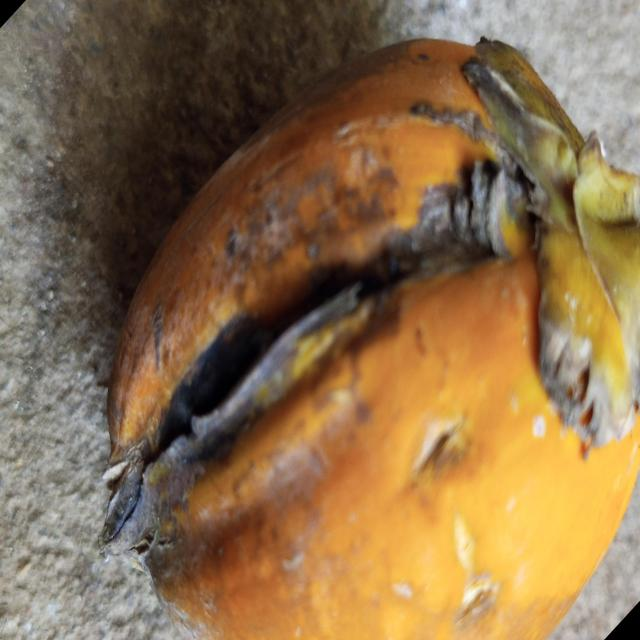damaged: (104, 40, 640, 640)
